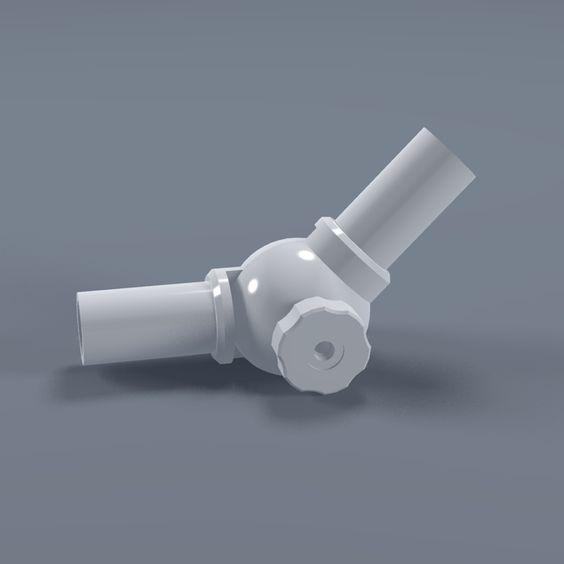PVC: (75, 125, 477, 398)
